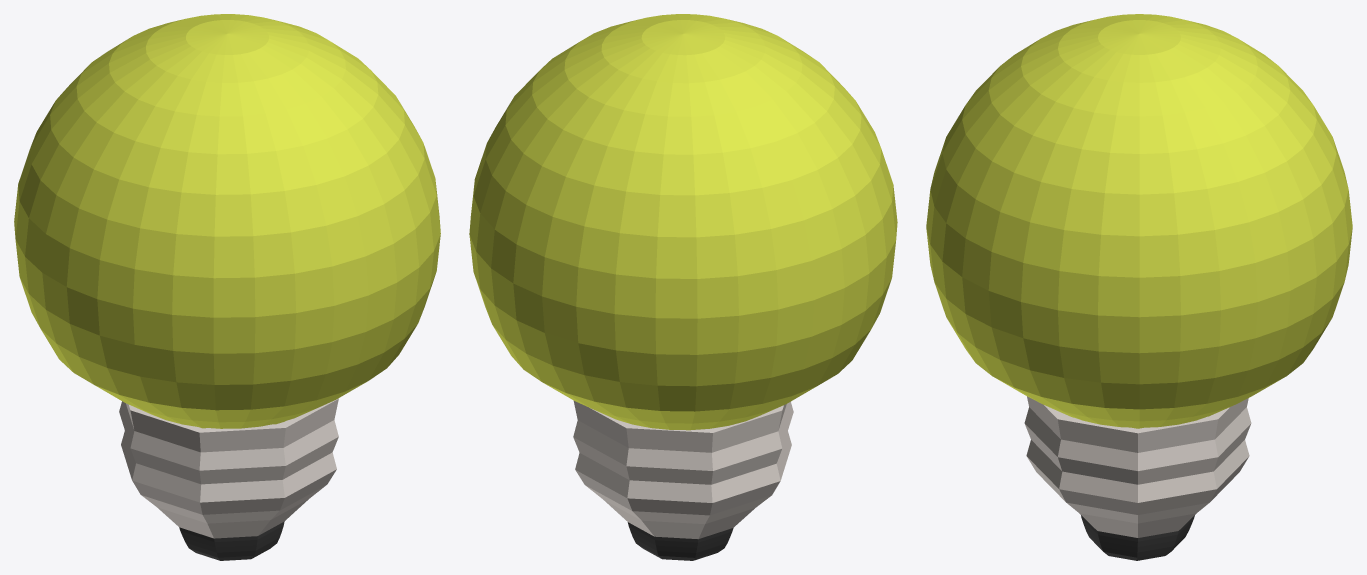
The model's file is Foco.fbx.
The picture shows the model from 3 angles, left to right: view 1: azimuth 30°, elevation 25°; view 2: azimuth 150°, elevation 25°; view 3: azimuth 270°, elevation 25°; orthographic projection.
Visible parts, largest first — view 1: foco, socket, negro; view 2: foco, socket, negro; view 3: foco, socket, negro.
Boxes of the visible parts, x1,y1,x2,y2 form: foco: (14,14,440,428); socket: (119,398,338,538); negro: (179,521,284,560); foco: (469,14,897,430); socket: (573,401,793,539); negro: (627,522,733,560); foco: (926,14,1352,428); socket: (1024,396,1251,537); negro: (1081,515,1194,560).
Bounding box in the file's own units: 302 × 401 × 302.
